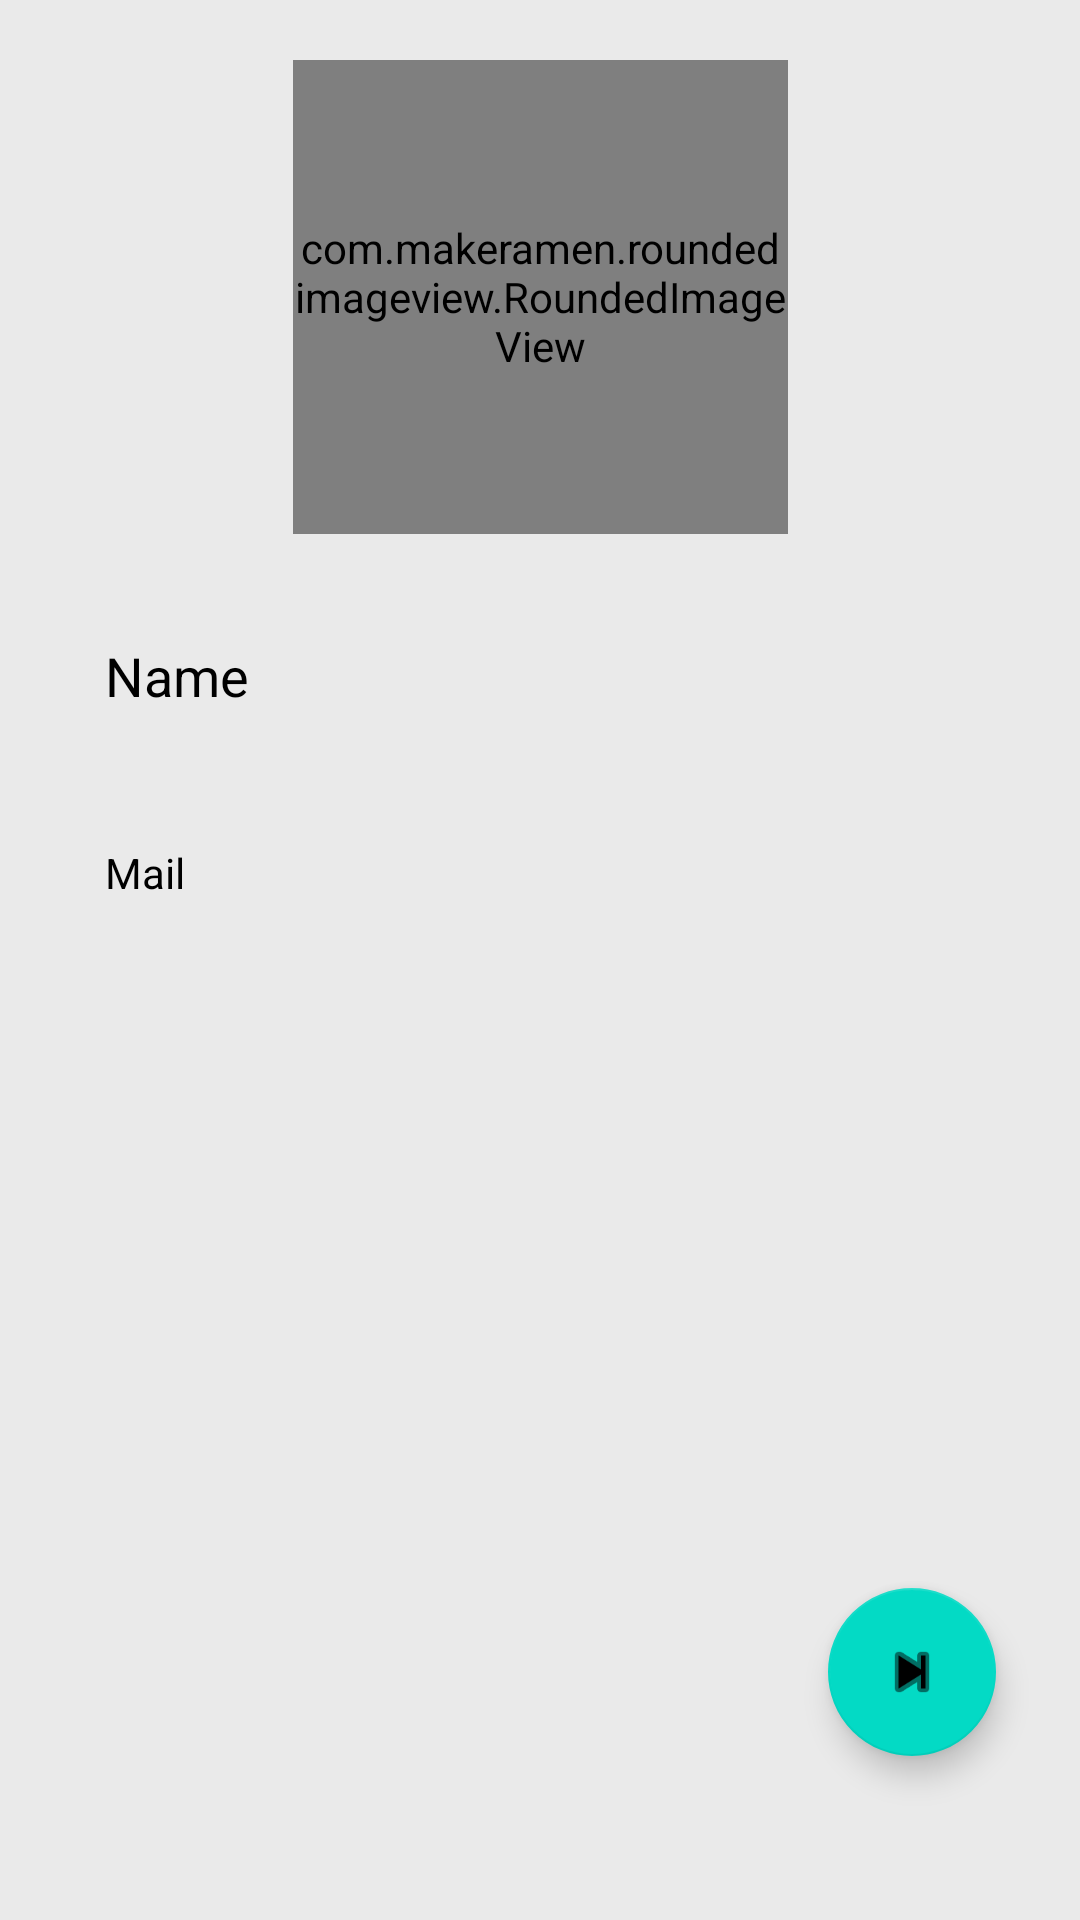

Icons on this 1080 x 1920 Android screen, each with its box as (x1, y1, x2, y2):
Tap to go: (828, 1588, 996, 1756)
